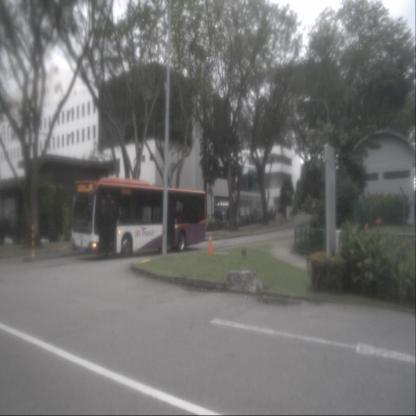cone: (207, 234, 214, 257)
